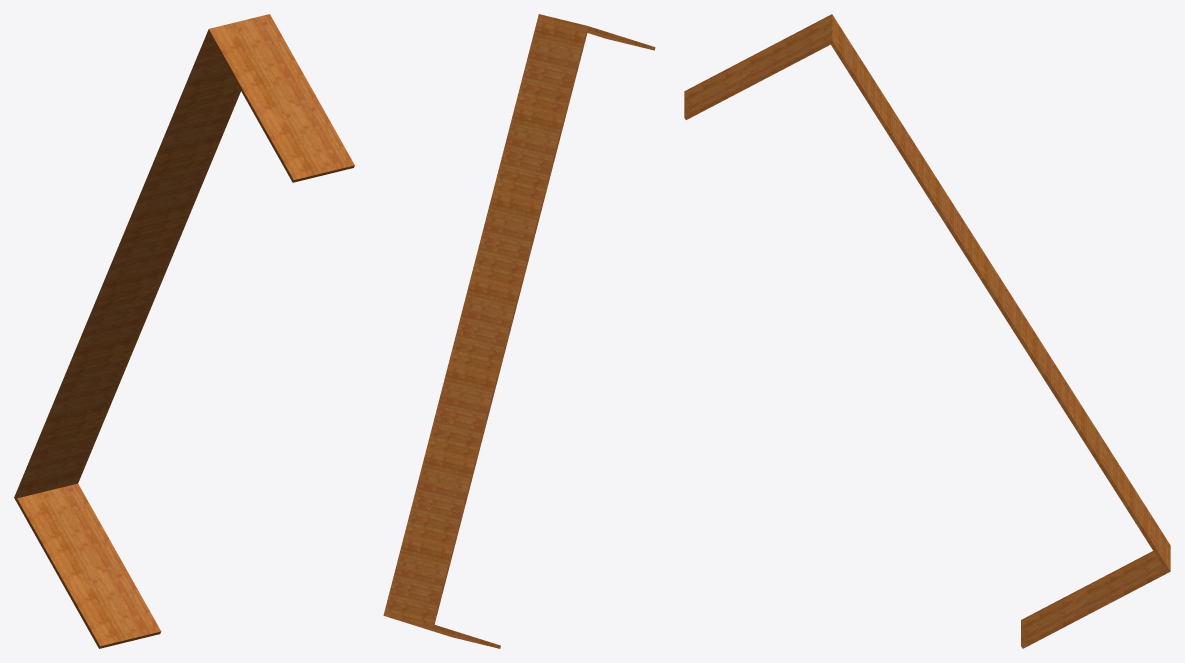
File: original-120.obj
3 renders of one model, left to right at view 1: azimuth 30°, elevation 25°; view 2: azimuth 150°, elevation 25°; view 3: azimuth 270°, elevation 25°, orthographic. The views are drawn at different scales.
Parts seen in each view (by area): view 1: Group31/mesh139/mesh139-geometry#mesh139-geometry; view 2: Group31/mesh139/mesh139-geometry#mesh139-geometry; view 3: Group31/mesh139/mesh139-geometry#mesh139-geometry.
Part boxes in pixels (x1,y1,x2,y2): Group31/mesh139/mesh139-geometry#mesh139-geometry: (14, 14, 354, 648); Group31/mesh139/mesh139-geometry#mesh139-geometry: (383, 14, 655, 648); Group31/mesh139/mesh139-geometry#mesh139-geometry: (684, 14, 1170, 648).
Size of the model in its own units: 0.0682 by 0.7466 by 0.5407.
